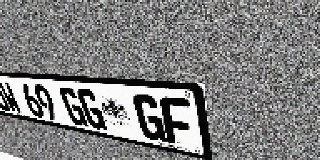6: (18, 83, 46, 119)
9: (31, 84, 61, 122)
F: (159, 96, 195, 148)
G: (132, 93, 167, 143), (75, 88, 108, 131), (58, 86, 89, 127)
J: (0, 80, 12, 112)
W: (0, 81, 23, 114)
